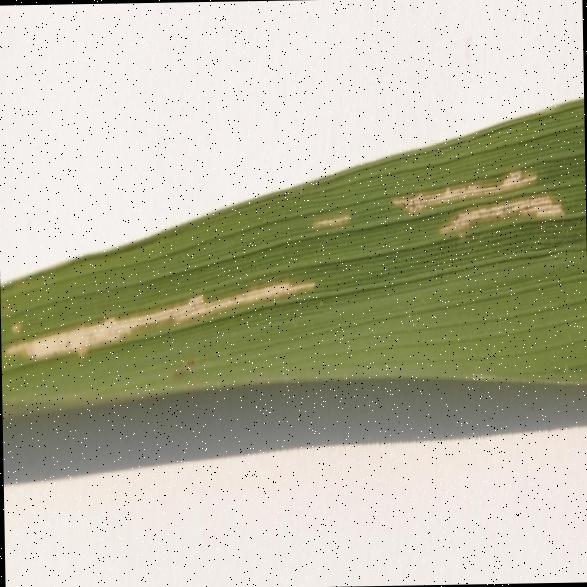Bacteria_Leaf_Blight: (378, 166, 572, 270), (10, 271, 319, 330)
